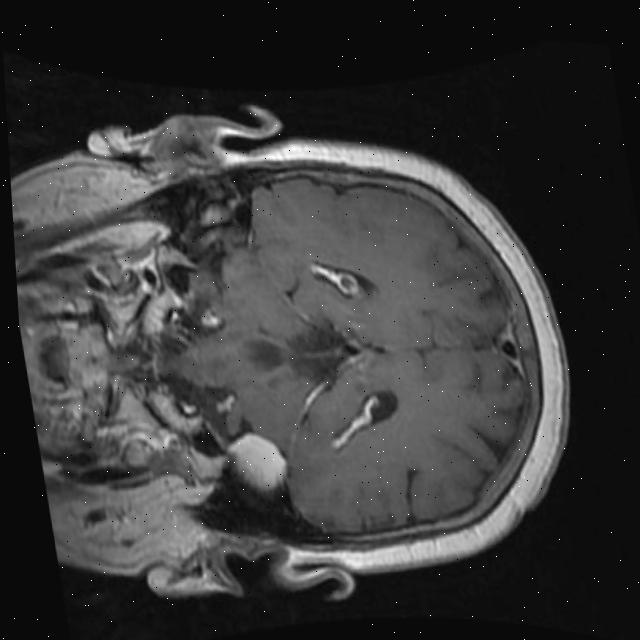Meningioma: (222, 426, 290, 495)
